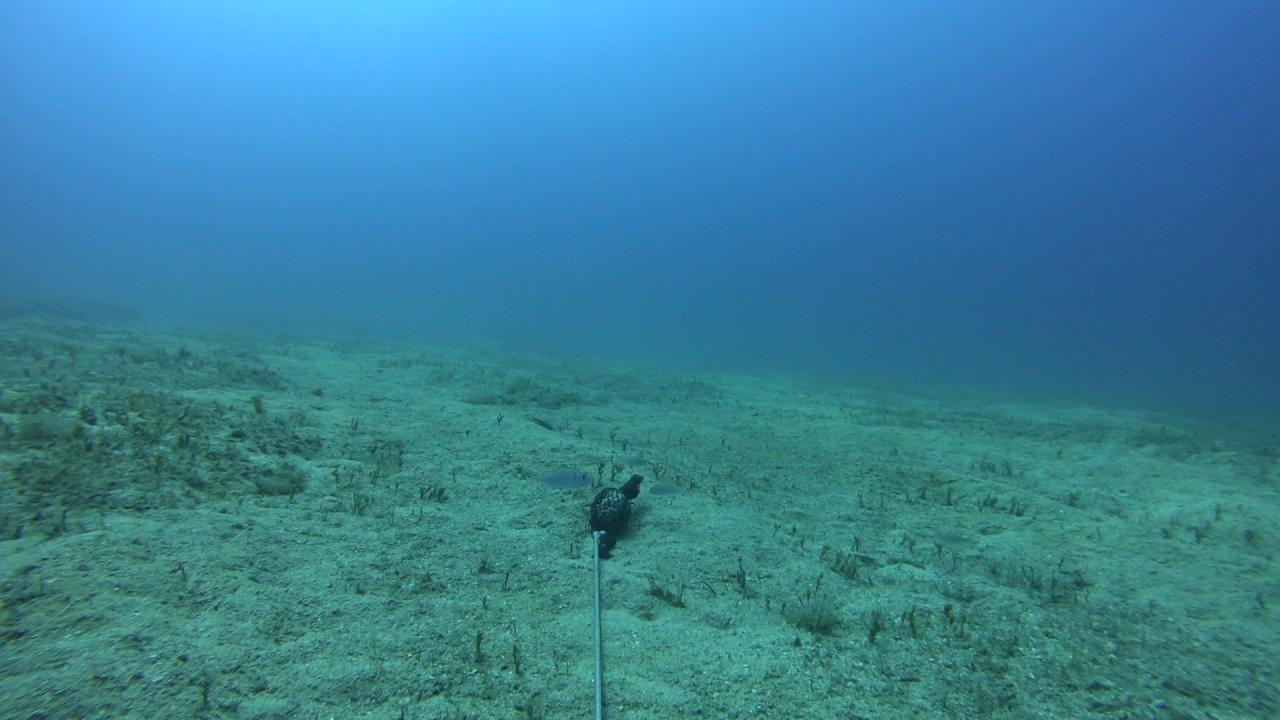pagellus: (528, 463, 594, 491), (647, 481, 687, 497), (611, 451, 647, 466)
